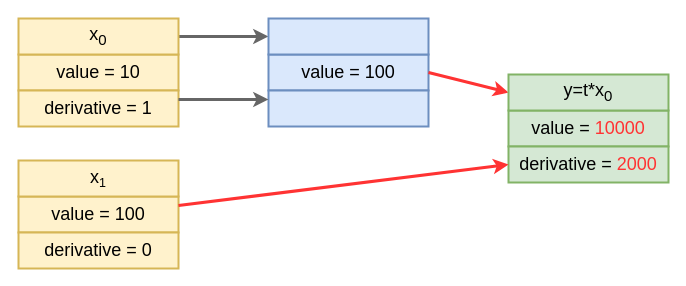
The diagram is 686 pixels wide and 286 high, and some of its shapes have lost their labels. Here are the shapes that lost their labels. From the top down, the centre of each, then its label:
At [348,36]: "t=x 0 *x 0".
At [348,108]: "derivative = 20".
